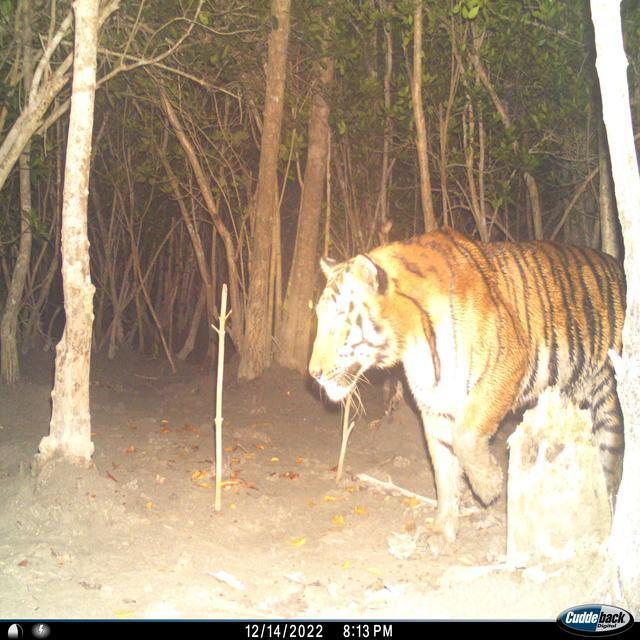tiger: (306, 224, 626, 545)
